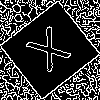X: (25, 25, 80, 82)
